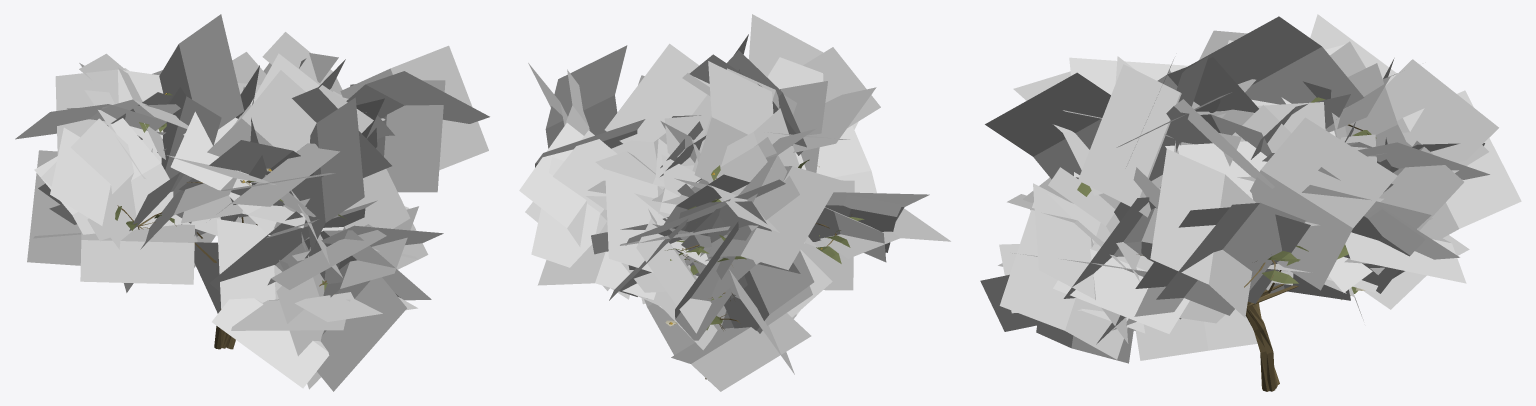
Rendered from Ciste_Dense_LOD2.fbx.
3 views of the same model, side by side, from view 1: azimuth 30°, elevation 25°; view 2: azimuth 150°, elevation 25°; view 3: azimuth 270°, elevation 25° (orthographic). The views are drawn at different scales.
Parts seen in each view (by area): view 1: Ciste_Dense_LOD2; view 2: Ciste_Dense_LOD2; view 3: Ciste_Dense_LOD2.
Part boxes in pixels (x1,y1,x2,y2): Ciste_Dense_LOD2: [15, 14, 489, 391]; Ciste_Dense_LOD2: [519, 14, 950, 391]; Ciste_Dense_LOD2: [980, 14, 1521, 391].
Bounding box in the file's own units: 176 × 135 × 178.
